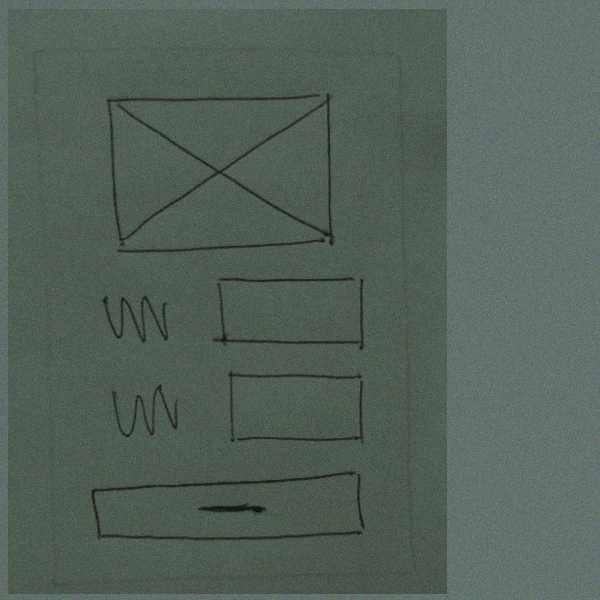button: (77, 466, 382, 550)
image: (88, 87, 350, 256)
text: (87, 284, 185, 354), (90, 381, 194, 444)
text_input: (206, 271, 377, 357), (213, 368, 379, 455)
